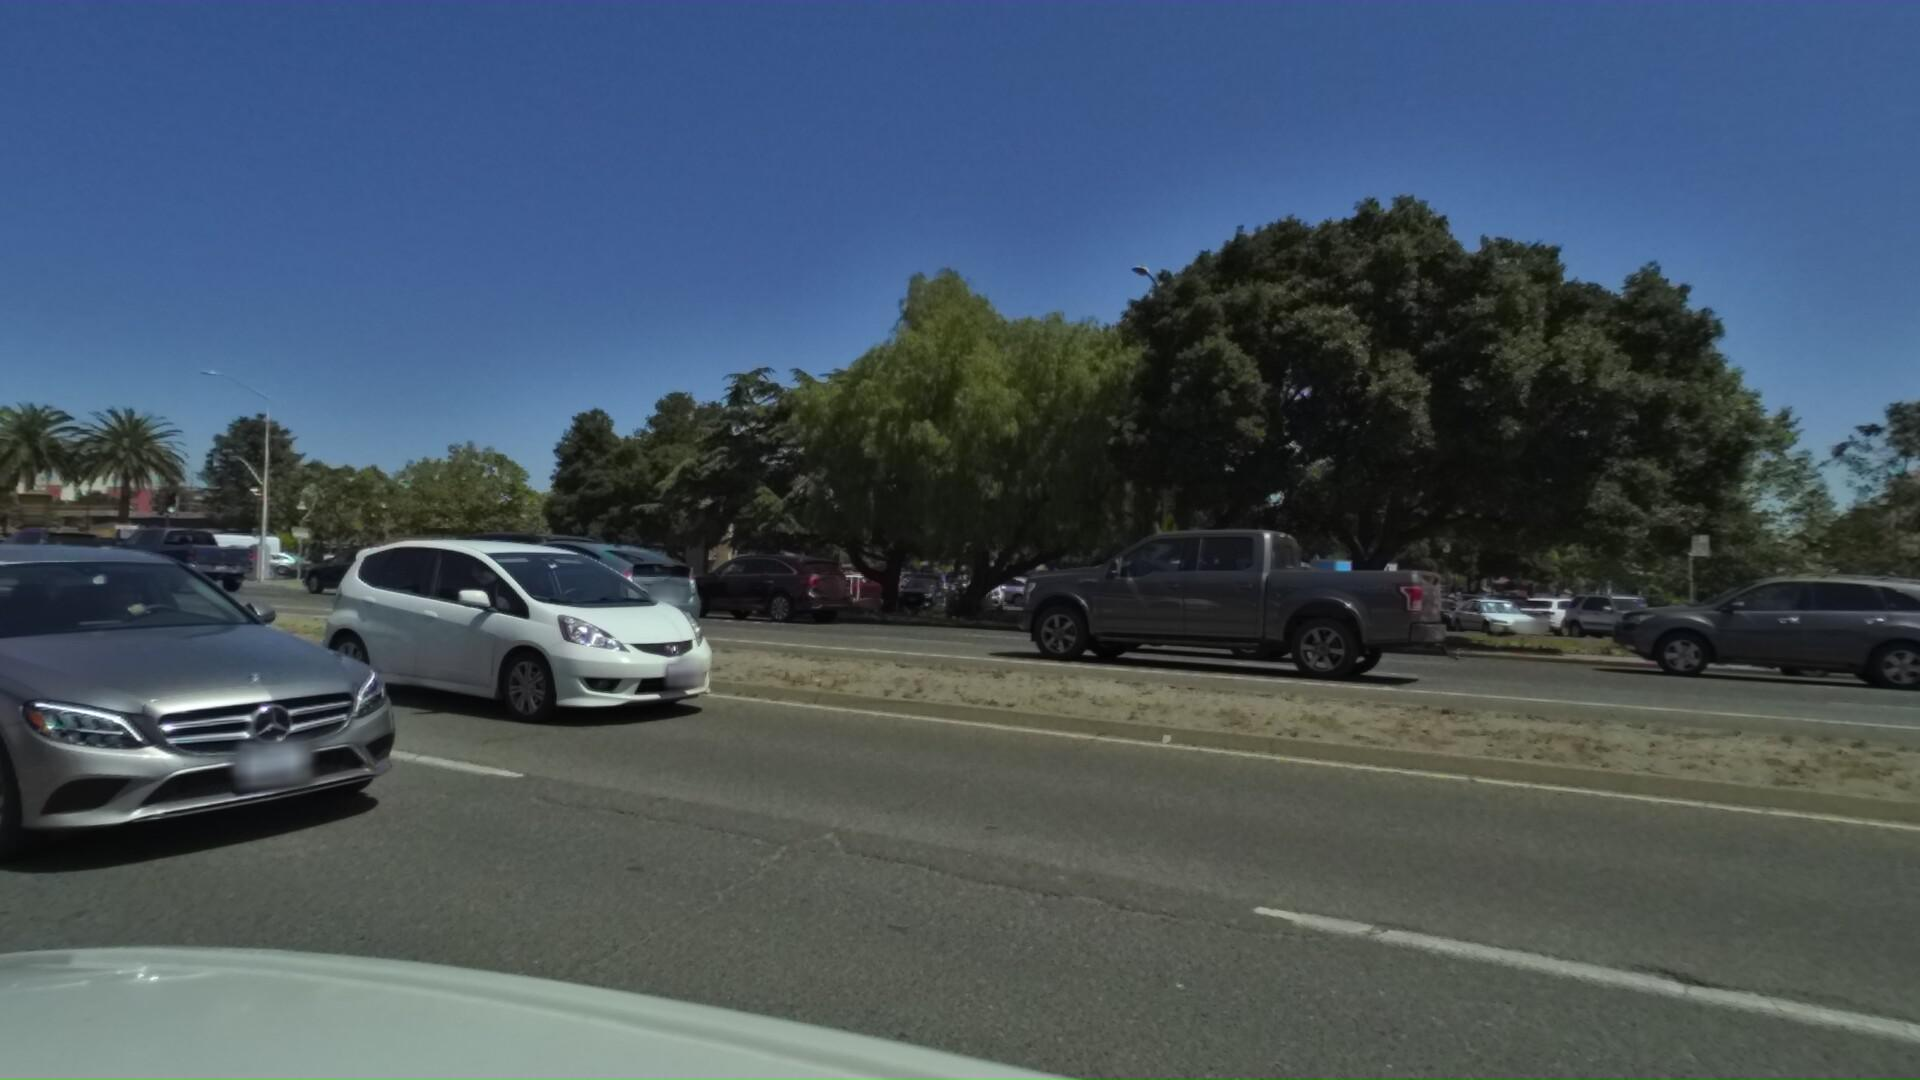car: (291, 516, 771, 732), (947, 525, 1407, 690), (1545, 558, 1915, 684), (386, 535, 683, 647), (1685, 584, 1920, 708), (1009, 553, 1274, 657), (356, 526, 593, 621), (644, 549, 837, 626), (462, 549, 644, 617), (86, 524, 251, 593), (276, 541, 422, 595), (141, 527, 282, 582)
